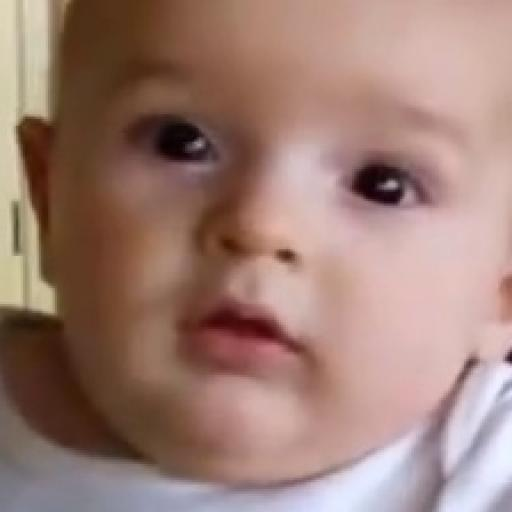Autism: (22, 10, 512, 484)
